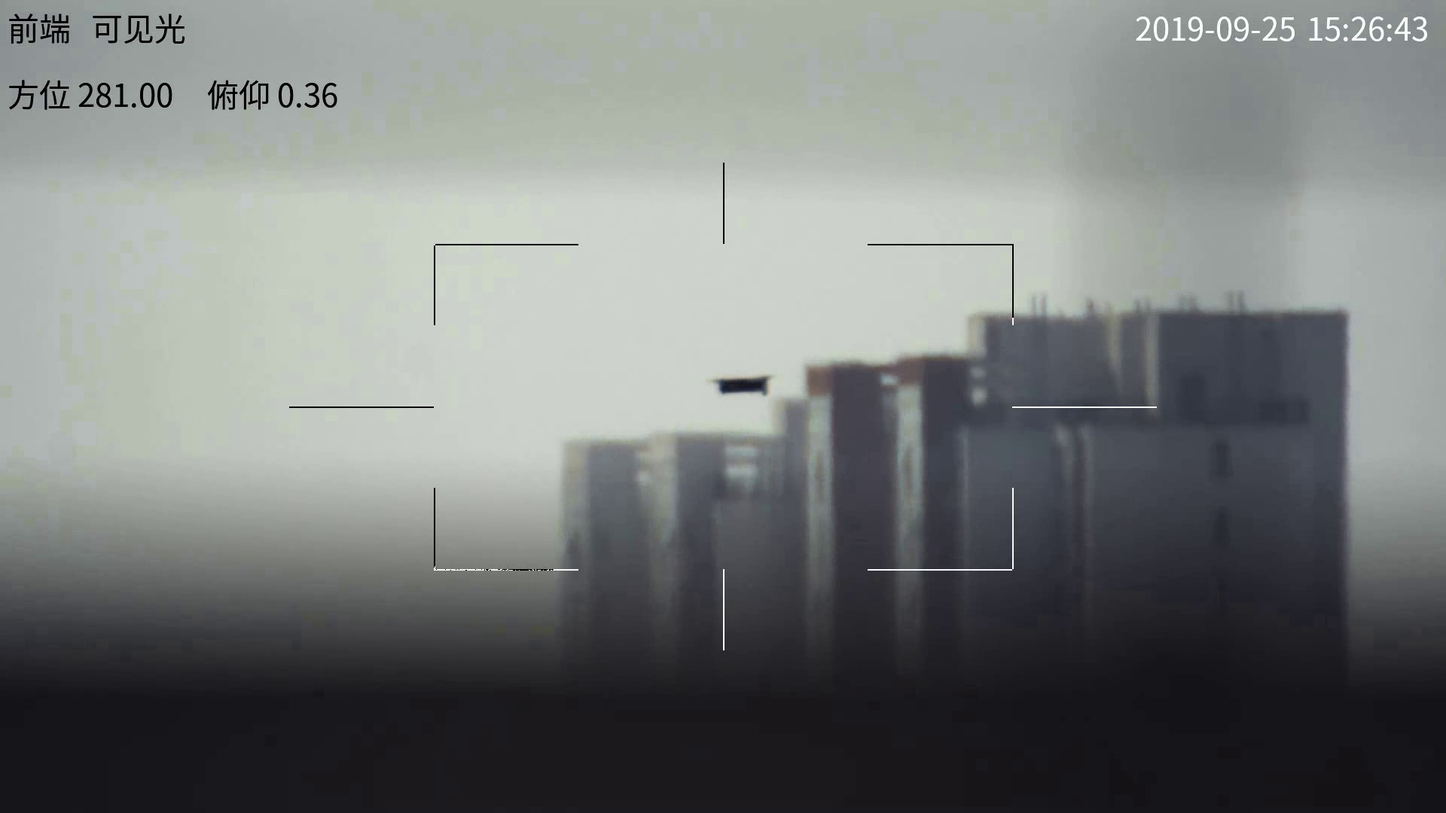drone_other: (720, 376, 777, 399)
